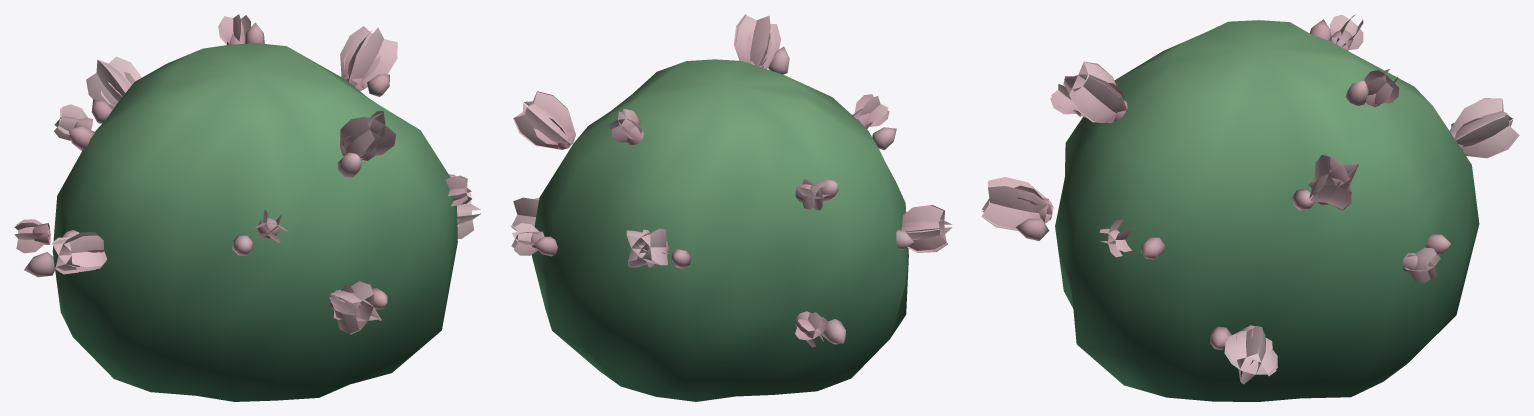
Rendered from rose_blush.glb.
3 views of the same model, side by side, from view 1: azimuth 30°, elevation 25°; view 2: azimuth 150°, elevation 25°; view 3: azimuth 270°, elevation 25° (orthographic). The views are drawn at different scales.
Parts seen in each view (by area): view 1: rose_blush; view 2: rose_blush; view 3: rose_blush.
Boxes of the visible parts, x1,y1,x2,y2 form: rose_blush: (14,14,480,401); rose_blush: (510,14,952,401); rose_blush: (981,14,1519,401).
Size of what is drawn, in the model's own units: 1.79 by 1.1 by 1.79.
